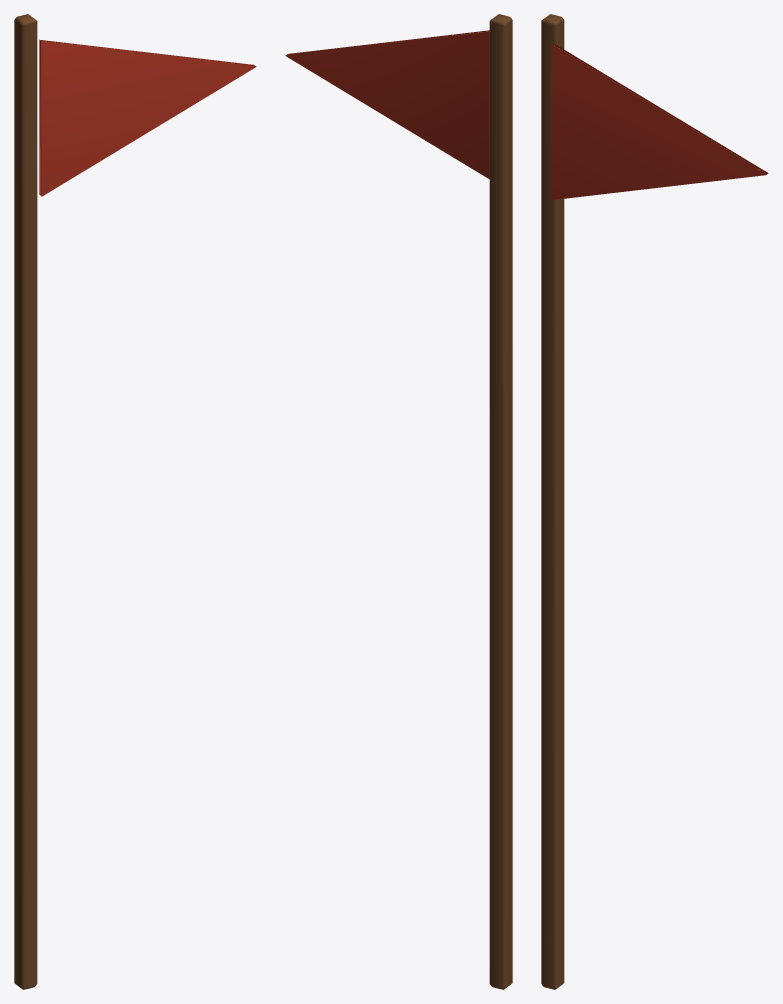
The model's file is checkpoint_flag.glb.
The picture shows the model from 3 angles, left to right: view 1: azimuth 30°, elevation 25°; view 2: azimuth 150°, elevation 25°; view 3: azimuth 330°, elevation 25°; orthographic projection.
Parts seen in each view (by area): view 1: checkpoint_flag; view 2: checkpoint_flag; view 3: checkpoint_flag.
Part boxes in pixels (x1,y1,x2,y2): checkpoint_flag: (14, 14, 256, 989); checkpoint_flag: (285, 14, 512, 989); checkpoint_flag: (541, 14, 768, 989).
Bounding box in the file's own units: 1.25 × 5 × 0.1275.
